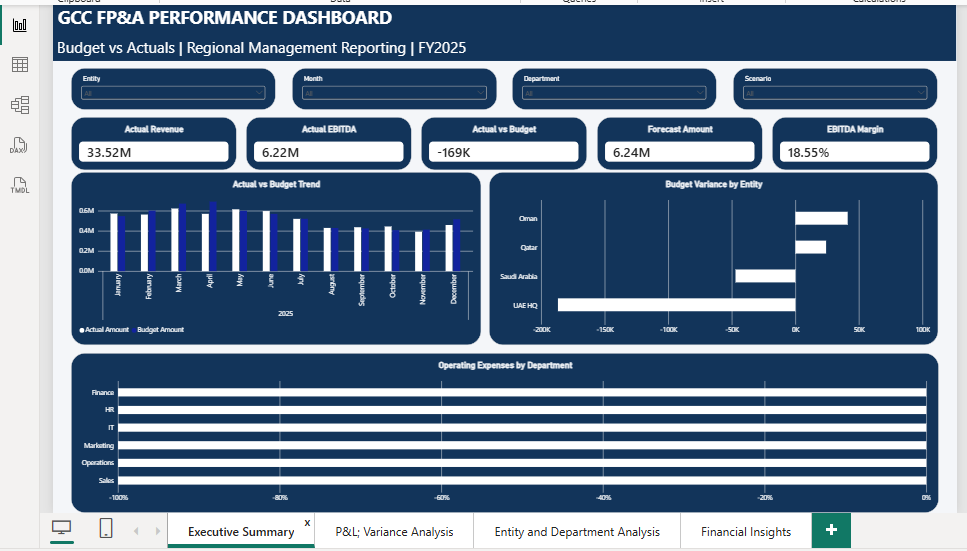

Layout of this report page (visuals, bound fields, positions):
{"tool":"powerbi","page":{"name":"Executive Summary","canvas":[1920,1080],"ordinal":0},"visuals":[{"type":"cardVisual","title":"Actual Revenue","fields":{"Data":["Fact_Financials.Revenue"]},"box":[38.3,238.1,352,112.7],"z":0},{"type":"cardVisual","title":"Actual EBITDA","fields":{"Data":["Fact_Financials.EBITDA"]},"box":[410.6,238.1,352,112.7],"z":1000},{"type":"cardVisual","title":"EBITDA Margin","fields":{"Data":["Fact_Financials.EBITDA Margin %"]},"box":[1528.6,238.1,352,112.7],"z":2000},{"type":"cardVisual","title":"Actual vs Budget","fields":{"Data":["Fact_Financials.Budget Variance"]},"box":[783,238.1,352.9,112.7],"z":3000},{"type":"cardVisual","title":"Forecast Amount","fields":{"Data":["Fact_Financials.Forecast Amount"]},"box":[1156.2,238.1,352,112.7],"z":4000},{"type":"lineClusteredColumnComboChart","title":"Actual vs Budget Trend","fields":{"Category":["Dim_Date.Month Year.Variation.Date Hierarchy.Year","Dim_Date.Month Year.Variation.Date Hierarchy.Month"],"Y":["Fact_Financials.Actual Amount","Fact_Financials.Budget Amount"]},"box":[38.3,355,871.7,367.8],"z":5000},{"type":"barChart","fields":{"Category":["Dim_Entity.Entity"],"Y":["Fact_Financials.Budget Variance"]},"box":[926.9,355,954.6,367.8],"z":6000},{"type":"hundredPercentStackedBarChart","fields":{"Category":["Dim_Department.Department"],"Y":["Fact_Financials.Operating Expenses"]},"box":[38.3,739.8,1845.4,340.2],"z":7000},{"type":"slicer","fields":{"Values":["Dim_Entity.Entity"]},"box":[38.3,133.9,435,89],"z":8000},{"type":"slicer","fields":{"Values":["Dim_Department.Department"]},"box":[976.8,133.9,435,89.3],"z":9000},{"type":"slicer","fields":{"Values":["Dim_Date.Date.Variation.Date Hierarchy.Month"]},"box":[507.1,133.9,435.8,89.3],"z":10000},{"type":"slicer","fields":{"Values":["Fact_Financials.Scenario"]},"box":[1445.7,133.9,435,89.3],"z":11000},{"type":"textbox","box":[0,0,1919.8,119.1],"z":12000}]}

Visuals, with their boxes on the page's 1920x1080 design canvas (x1, y1, x2, y2). These are canvas units, not pixel positions in the 967x551 screenshot, which may show the page scaled, cropped or inside an application window:
"Actual Revenue" cardVisual: (x1=38, y1=238, x2=390, y2=351)
"Actual EBITDA" cardVisual: (x1=411, y1=238, x2=763, y2=351)
"EBITDA Margin" cardVisual: (x1=1529, y1=238, x2=1881, y2=351)
"Actual vs Budget" cardVisual: (x1=783, y1=238, x2=1136, y2=351)
"Forecast Amount" cardVisual: (x1=1156, y1=238, x2=1508, y2=351)
"Actual vs Budget Trend" lineClusteredColumnComboChart: (x1=38, y1=355, x2=910, y2=723)
barChart - Dim_Entity.Entity x Fact_Financials.Budget Variance: (x1=927, y1=355, x2=1882, y2=723)
hundredPercentStackedBarChart - Dim_Department.Department x Fact_Financials.Operating Expenses: (x1=38, y1=740, x2=1884, y2=1080)
slicer - Dim_Entity.Entity: (x1=38, y1=134, x2=473, y2=223)
slicer - Dim_Department.Department: (x1=977, y1=134, x2=1412, y2=223)
slicer - Dim_Date.Date.Variation.Date Hierarchy.Month: (x1=507, y1=134, x2=943, y2=223)
slicer - Fact_Financials.Scenario: (x1=1446, y1=134, x2=1881, y2=223)
textbox: (x1=0, y1=0, x2=1920, y2=119)
